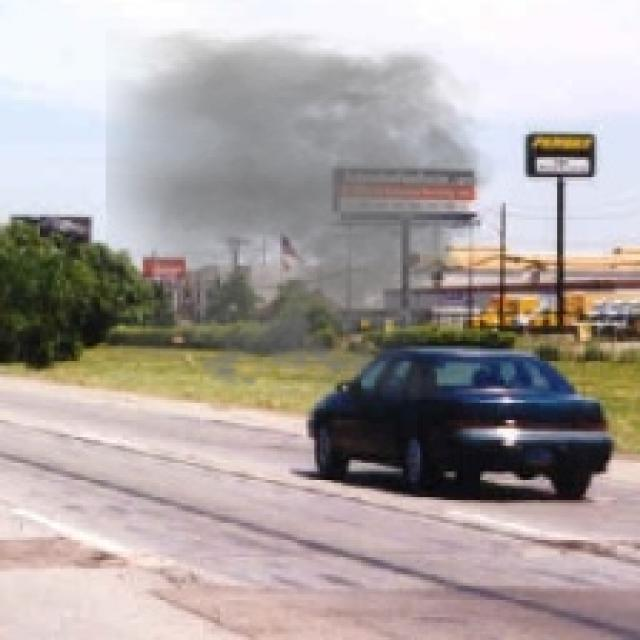smoke: (106, 29, 508, 400)
